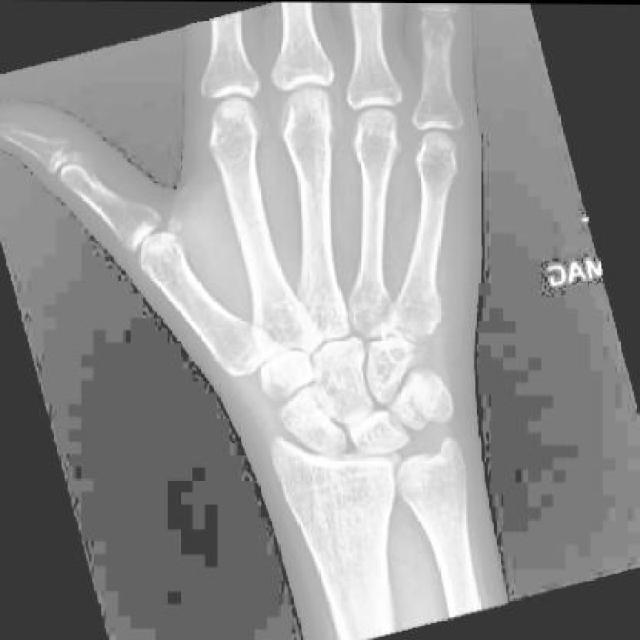Fracture: (280, 394, 346, 441)
